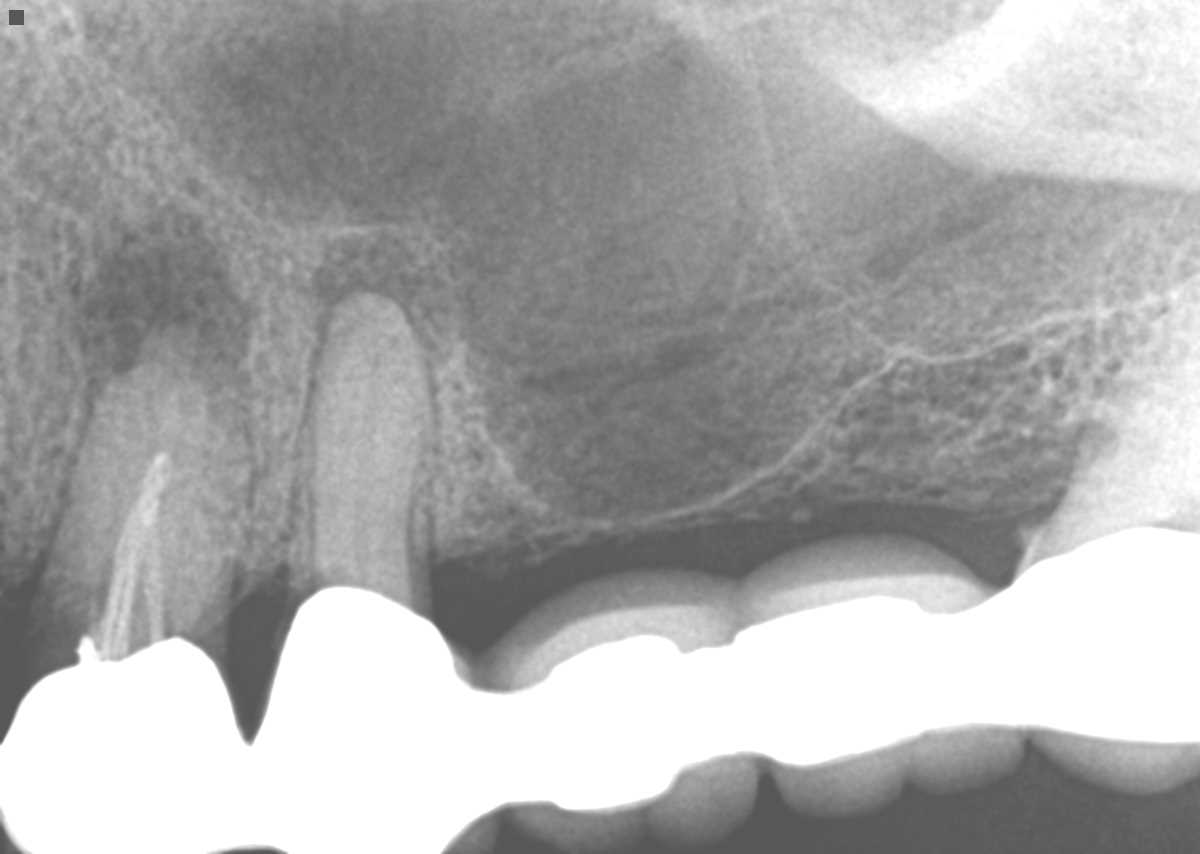Apical Lesion: (67, 209, 257, 383), (315, 222, 458, 365)
Main Canal: (353, 343, 382, 577)
Main Root: (32, 316, 254, 647), (285, 289, 440, 580), (1053, 295, 1200, 519)
Root Canal Filling: (99, 451, 172, 642)
